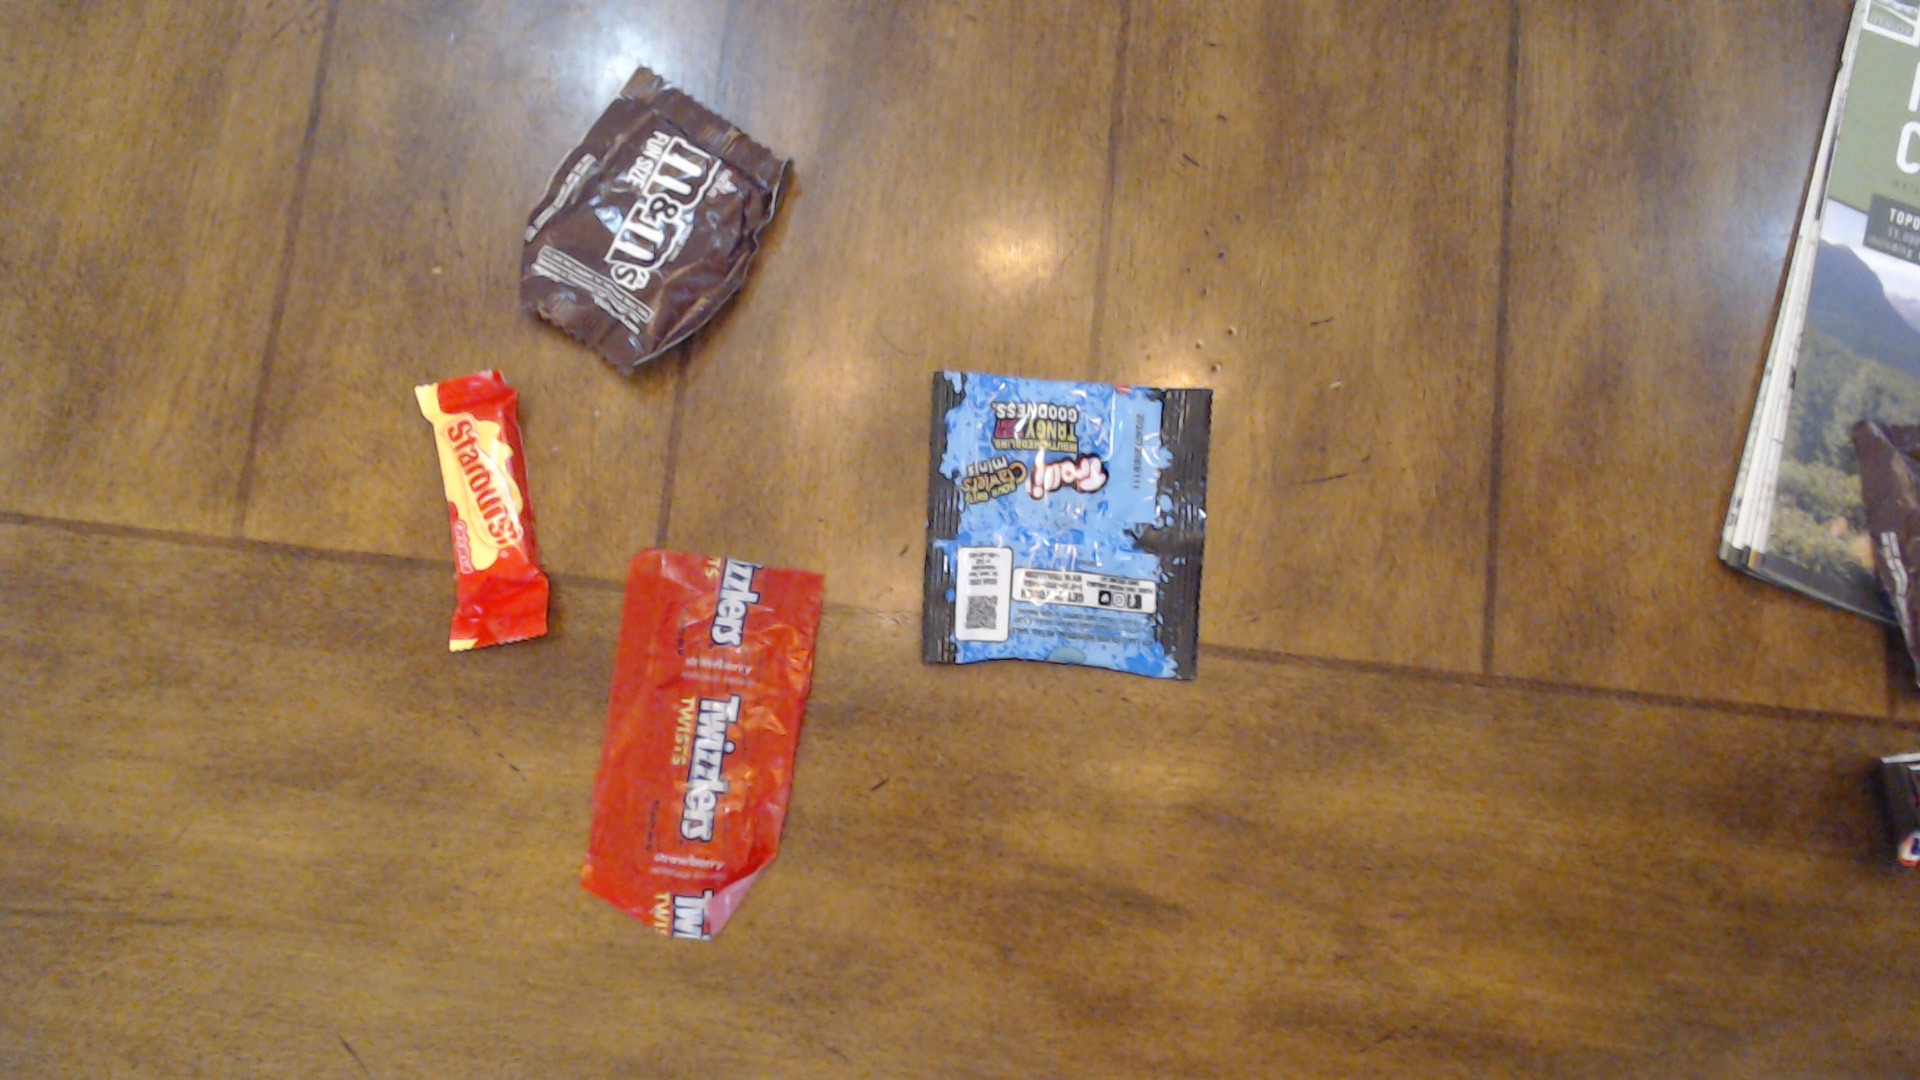MMs_peanut: (488, 57, 807, 396)
gummy_worms: (915, 344, 1213, 700)
starbust: (376, 377, 572, 680)
twizzlers: (603, 512, 814, 956)
